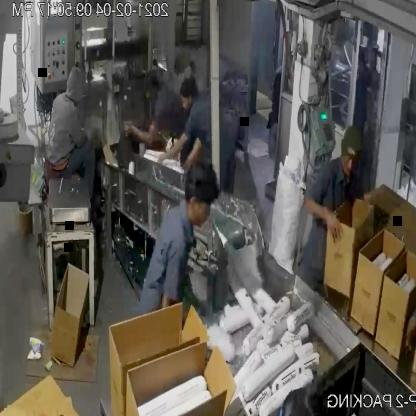no_glove: (299, 197, 348, 245), (156, 125, 190, 174), (120, 116, 158, 152), (180, 135, 209, 174), (399, 309, 416, 359)
